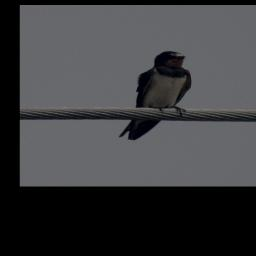Swallow: (118, 51, 192, 141)
